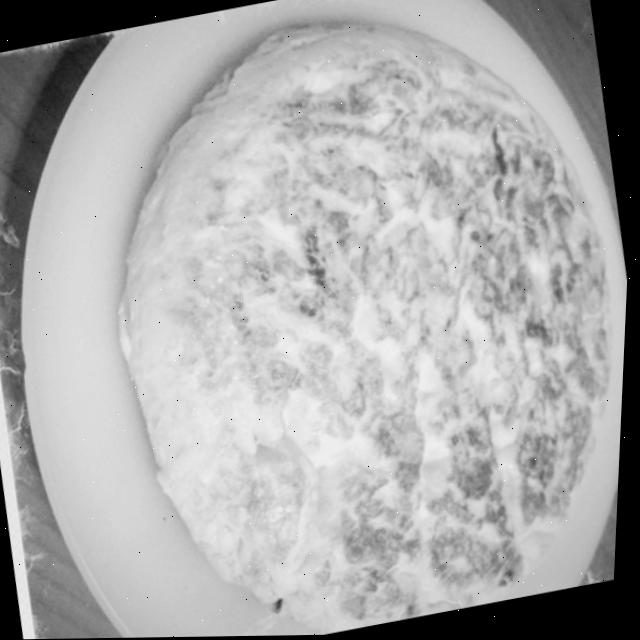面包点心: (97, 0, 629, 639)
